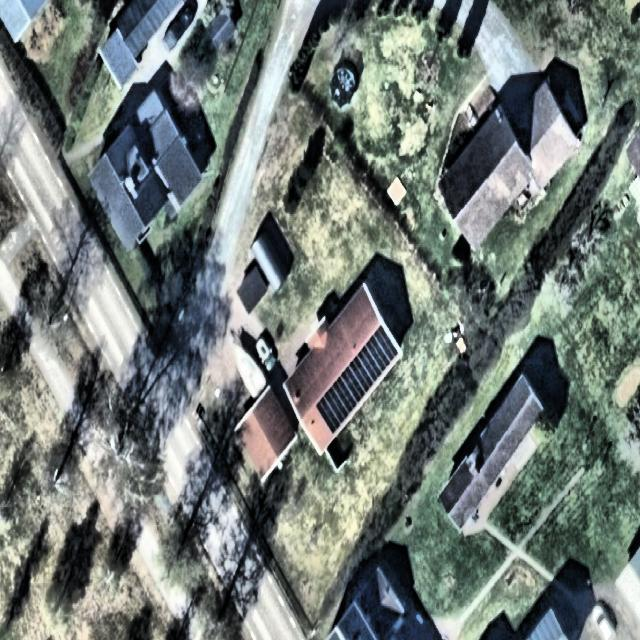roof_pv: (315, 373, 349, 433), (343, 342, 371, 414), (368, 321, 399, 378)
